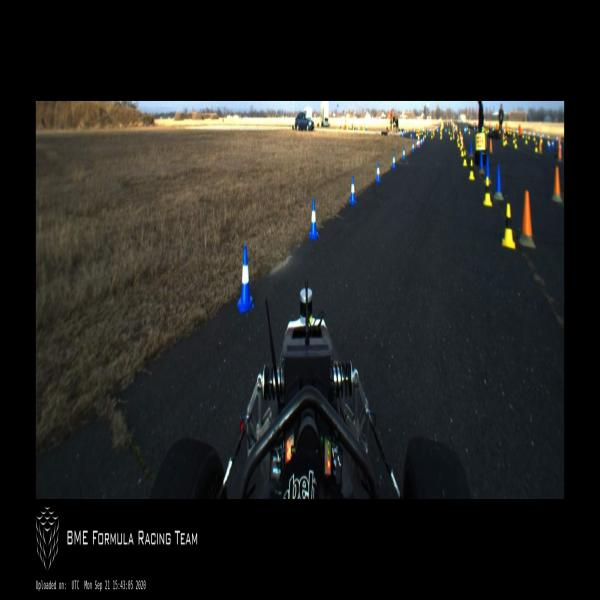blue_cone: (237, 244, 254, 313), (308, 199, 319, 239), (349, 176, 357, 205), (375, 162, 381, 183), (392, 153, 396, 169), (402, 147, 406, 160), (416, 139, 419, 148), (412, 141, 414, 153), (548, 140, 550, 151), (420, 138, 423, 145), (422, 136, 424, 144), (552, 142, 554, 150), (464, 126, 466, 132), (410, 133, 412, 138), (402, 132, 404, 137), (474, 125, 475, 132)
large_orange_cone: (461, 132, 464, 148), (418, 133, 420, 147)
unknown_cone: (518, 189, 537, 248), (550, 165, 564, 203), (494, 163, 504, 200), (483, 157, 493, 186), (478, 148, 484, 173), (557, 143, 563, 161), (469, 141, 474, 158), (489, 138, 493, 153), (539, 141, 542, 153), (452, 132, 455, 138), (413, 132, 414, 138)
yellow_cone: (501, 204, 516, 250), (484, 178, 492, 206), (469, 160, 475, 180), (463, 150, 467, 164), (514, 138, 518, 150), (461, 144, 464, 157), (535, 141, 538, 153), (525, 135, 528, 144), (503, 137, 506, 146), (439, 132, 442, 140), (468, 127, 471, 135), (505, 136, 508, 144), (450, 132, 452, 141), (458, 138, 460, 147), (433, 130, 435, 138), (512, 137, 514, 144), (457, 134, 459, 141), (431, 132, 433, 138), (448, 129, 450, 134), (425, 132, 426, 138), (416, 130, 417, 136)
